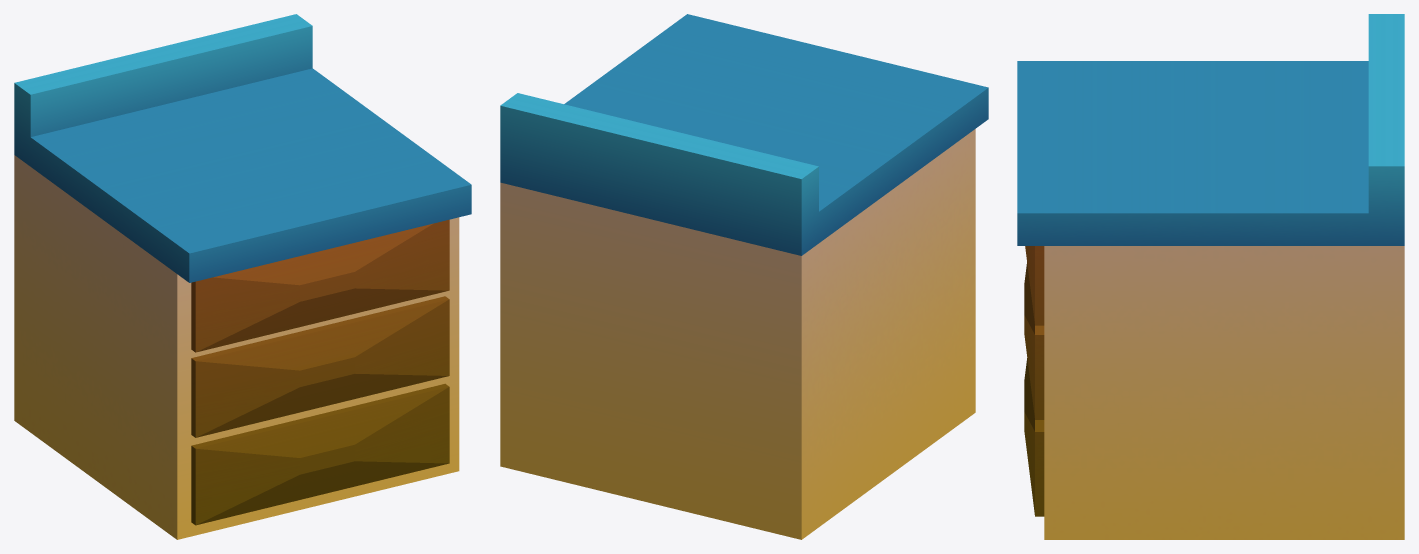
The model's file is Counter.fbx.
The picture shows the model from 3 angles, left to right: view 1: azimuth 30°, elevation 25°; view 2: azimuth 150°, elevation 25°; view 3: azimuth 270°, elevation 25°; orthographic projection. The views are drawn at different scales.
Visible parts, largest first — view 1: Counter; view 2: Counter; view 3: Counter.
Boxes of the visible parts, x1,y1,x2,y2 form: Counter: (14,14,471,539); Counter: (500,14,988,539); Counter: (1017,14,1404,539).
Size of the model in its own units: 1 by 1.14 by 1.08.
